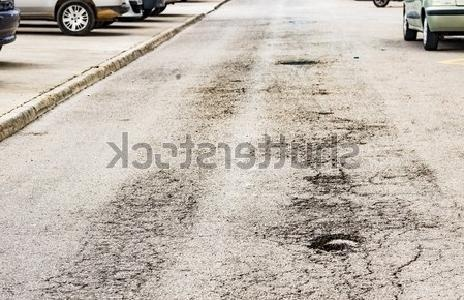pothole: (308, 231, 366, 255), (272, 55, 321, 67)
